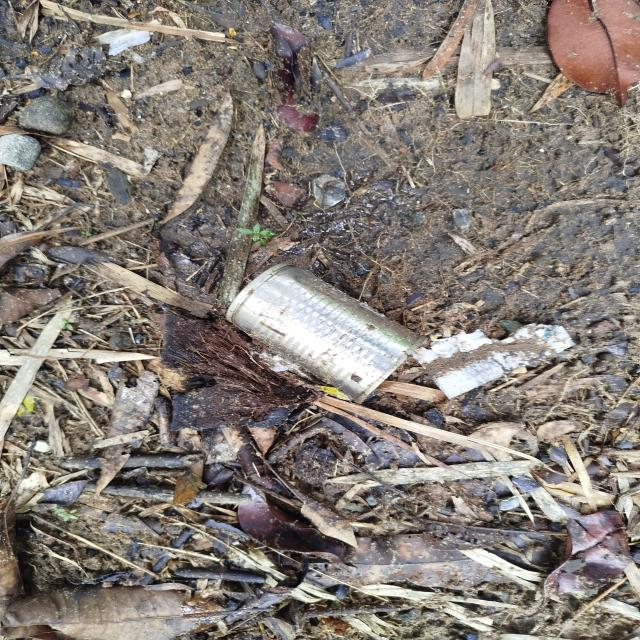metal: (213, 250, 434, 425)
